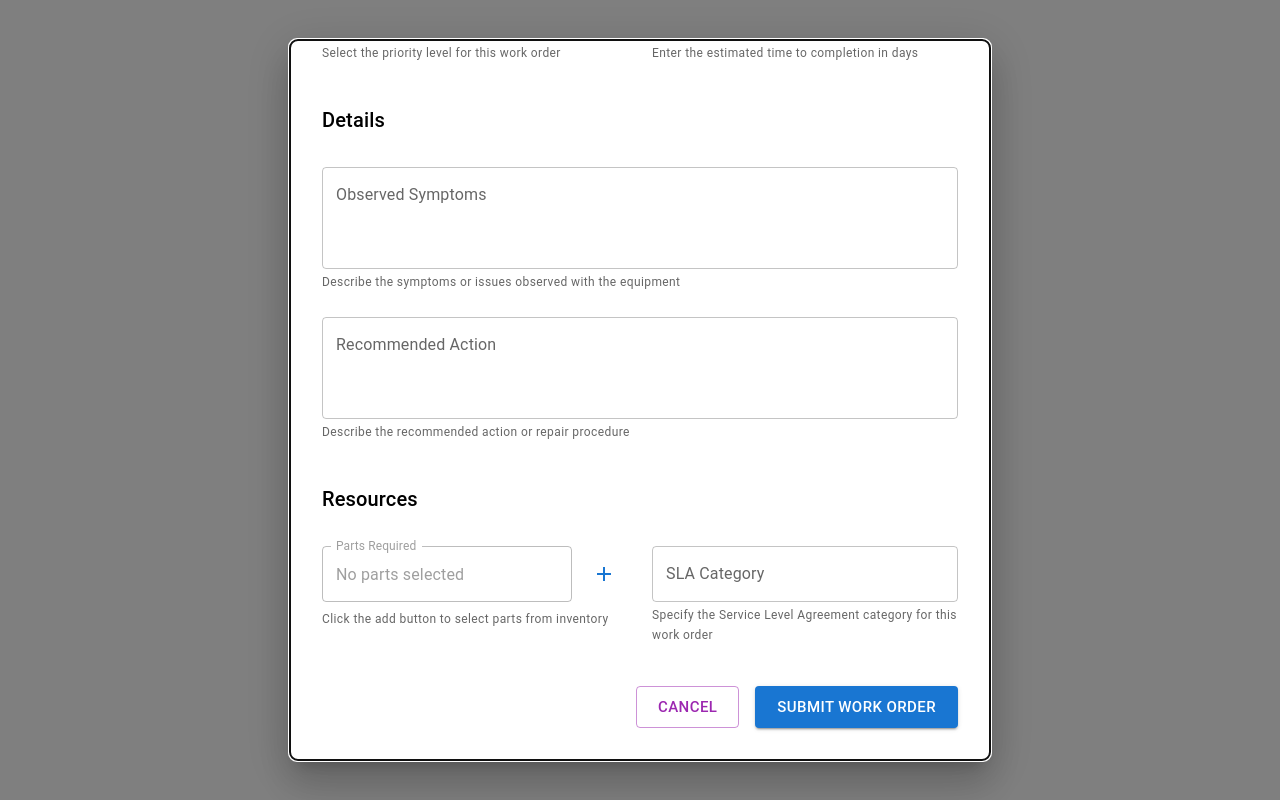
Test: WorkOrderModal › clears validation errors when user starts typing
The width and height of the screenshot is (1280, 800).
(page scrolled)
Note: Trigger validation errors
Click the button "Submit Work Order" at (857, 707), box [755,686,958,728]
(page scrolled)
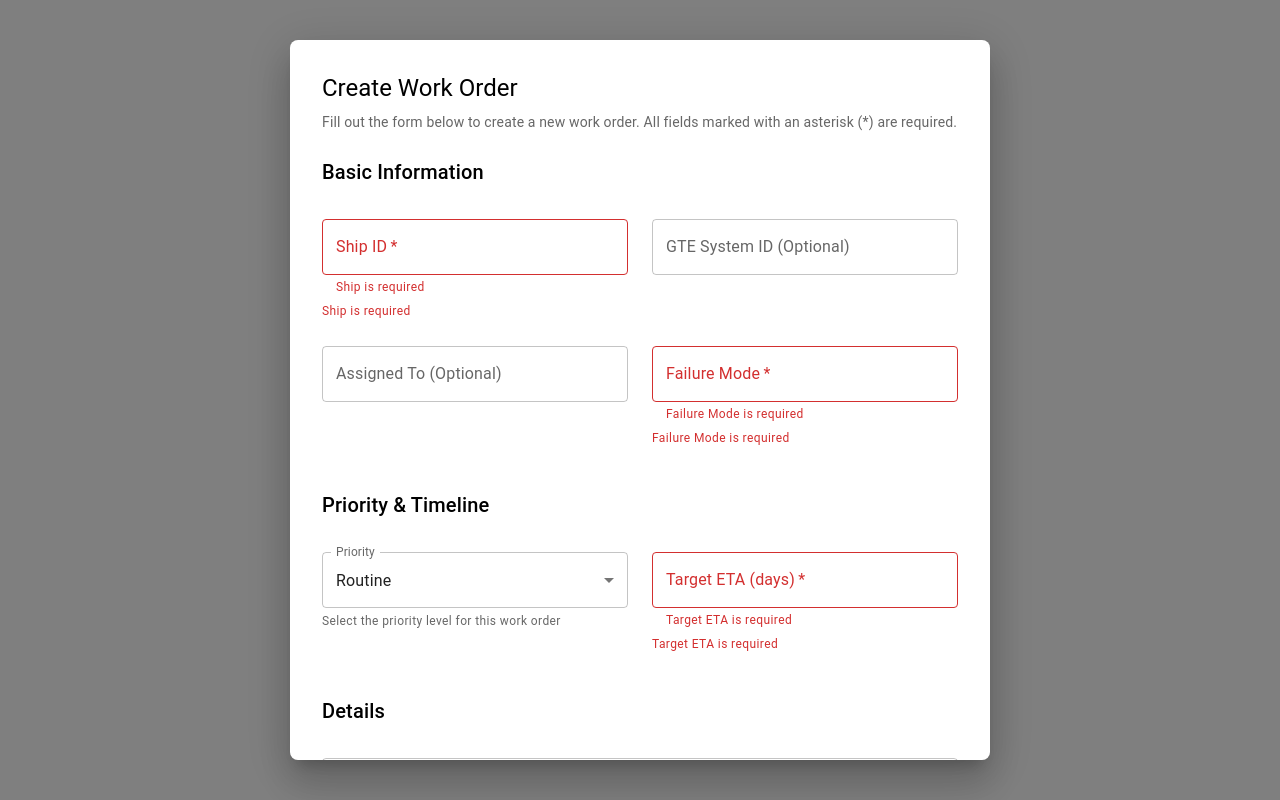
Expected: the text "Ship is required" below "Ship ID" is shown, [336,280,425,294]
Note: Start typing in ship field
Type "USS Test" into the field labelled "Ship ID *" at (475, 247), box [322,219,628,275]
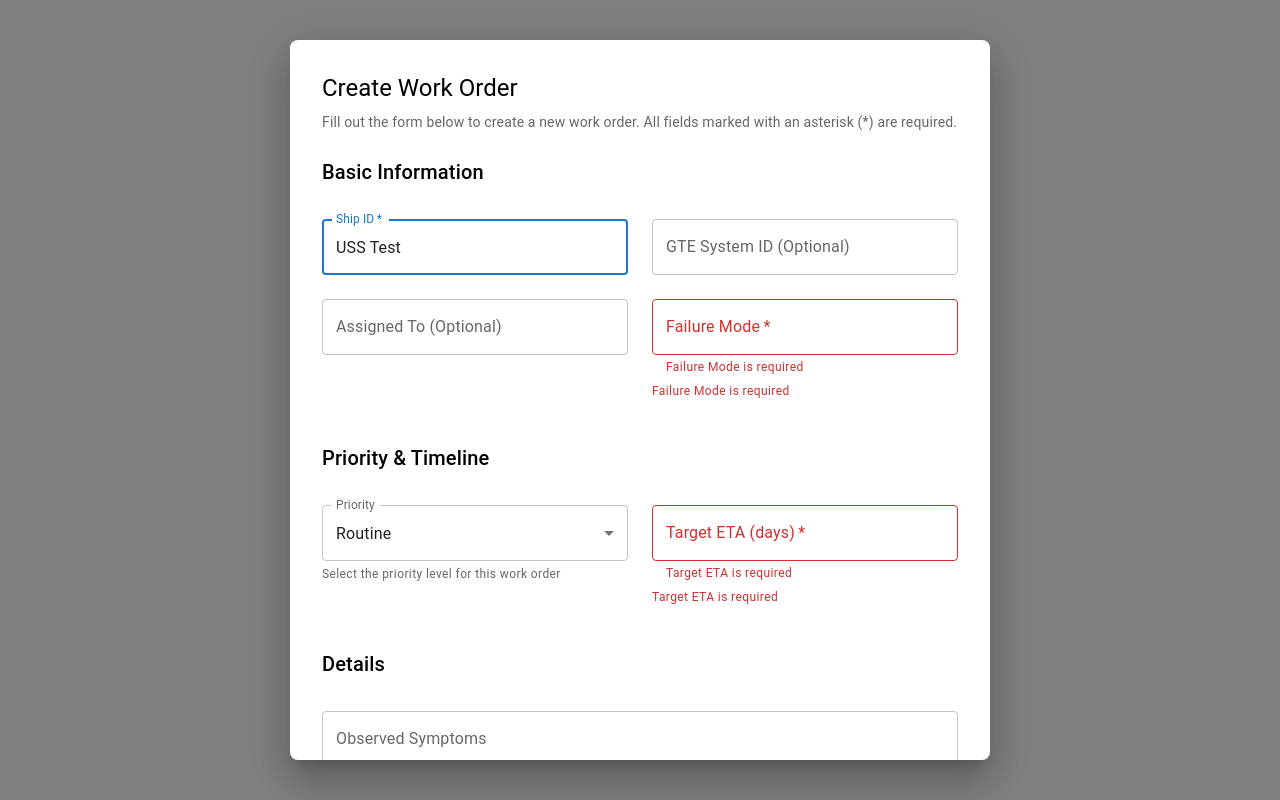
Expected: the text "Ship is required" is not shown
